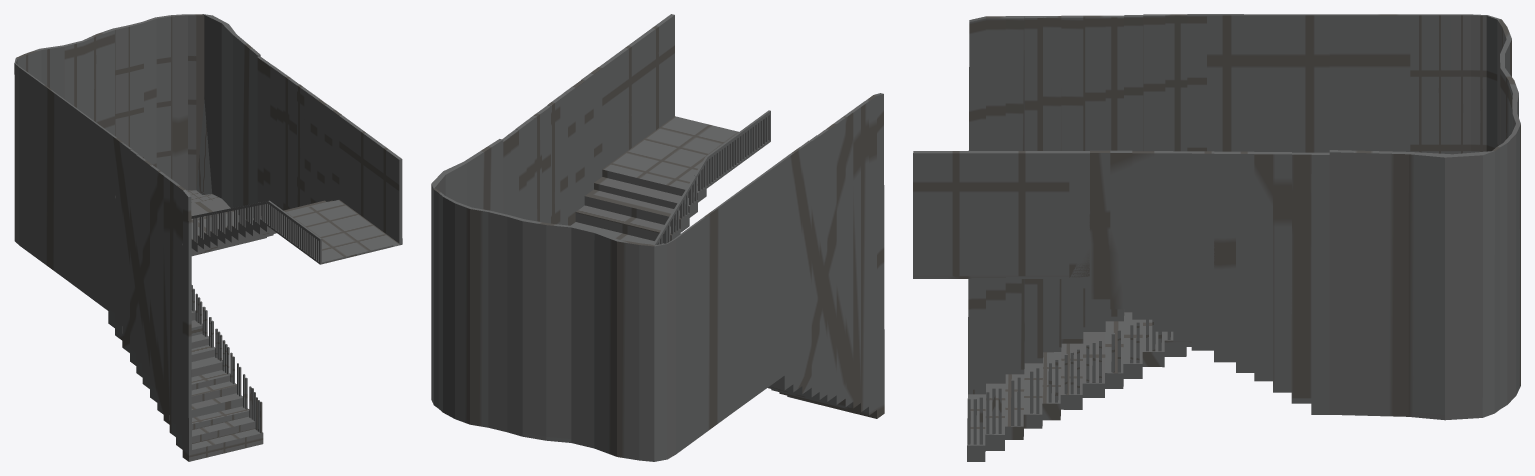
File: stairs2.fbx
3 renders of one model, left to right at view 1: azimuth 30°, elevation 25°; view 2: azimuth 150°, elevation 25°; view 3: azimuth 270°, elevation 25°, orthographic. The views are drawn at different scales.
Parts seen in each view (by area): view 1: Cube; view 2: Cube; view 3: Cube.
Boxes of the visible parts, box(x1,y1,x2,y2) form: Cube: box(14, 14, 402, 461); Cube: box(431, 14, 884, 461); Cube: box(913, 14, 1520, 461).
Size of the model in its own units: 12525 by 15939 by 22166.
